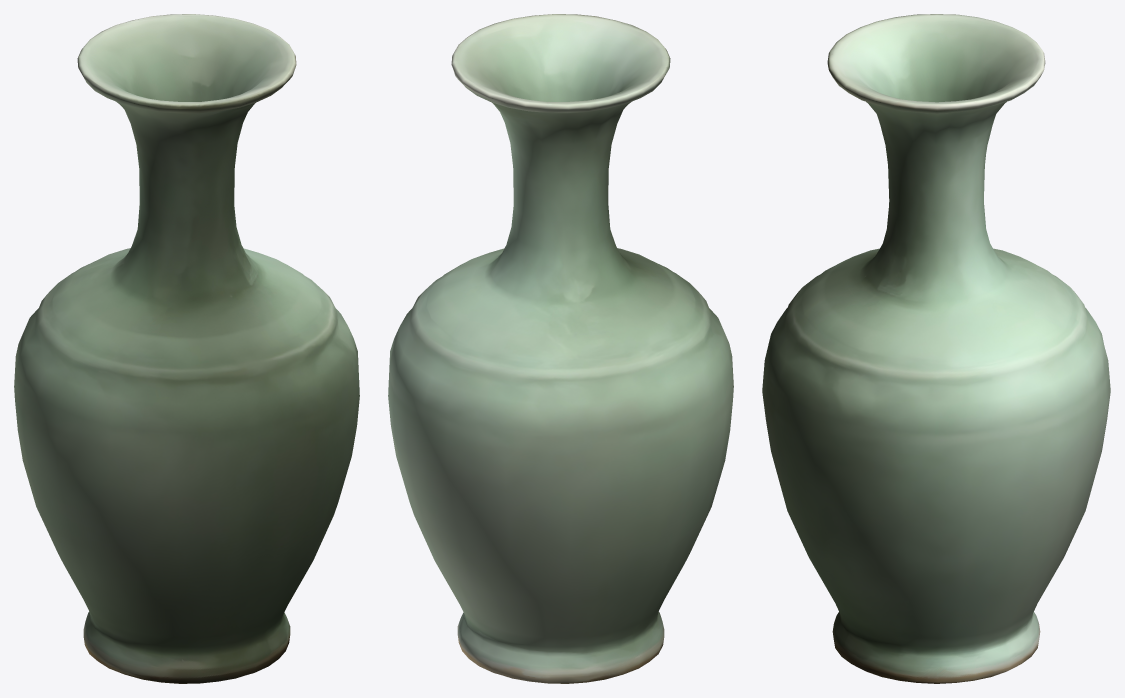
File: celadon-vase.glb
3 views of the same model, side by side, from view 1: azimuth 30°, elevation 25°; view 2: azimuth 150°, elevation 25°; view 3: azimuth 270°, elevation 25° (orthographic).
Visible parts, largest first — view 1: tripo_node_7e1700d0-d909-423f-9e16-f3a2917d184b; view 2: tripo_node_7e1700d0-d909-423f-9e16-f3a2917d184b; view 3: tripo_node_7e1700d0-d909-423f-9e16-f3a2917d184b.
Boxes of the visible parts, <box> form: tripo_node_7e1700d0-d909-423f-9e16-f3a2917d184b: <box>14,14,359,683</box>; tripo_node_7e1700d0-d909-423f-9e16-f3a2917d184b: <box>388,14,733,683</box>; tripo_node_7e1700d0-d909-423f-9e16-f3a2917d184b: <box>762,14,1110,683</box>.
Size of the model in its own units: 0.541 by 0.998 by 0.541.
Materials: 1 (1 with a texture image).
